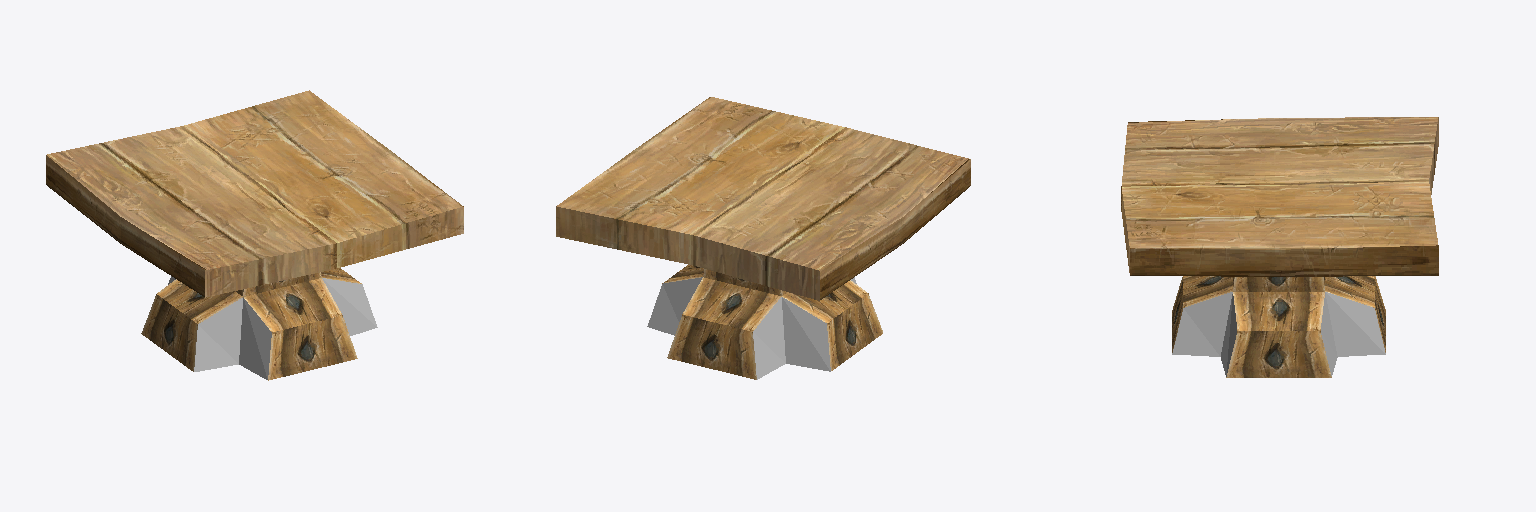
The picture shows the model from 3 angles: view 1: azimuth 30°, elevation 25°; view 2: azimuth 150°, elevation 25°; view 3: azimuth 270°, elevation 25°; orthographic projection.
Visible parts, largest first — view 1: InnTableSmall; view 2: InnTableSmall; view 3: InnTableSmall.
Boxes of the visible parts, box(x1,y1,x2,y2) form: InnTableSmall: box(46, 90, 463, 380); InnTableSmall: box(556, 97, 970, 379); InnTableSmall: box(1121, 117, 1438, 377).
Size of the model in its own units: 2.13 by 1.13 by 2.16.
Materials: 3 (2 with a texture image).